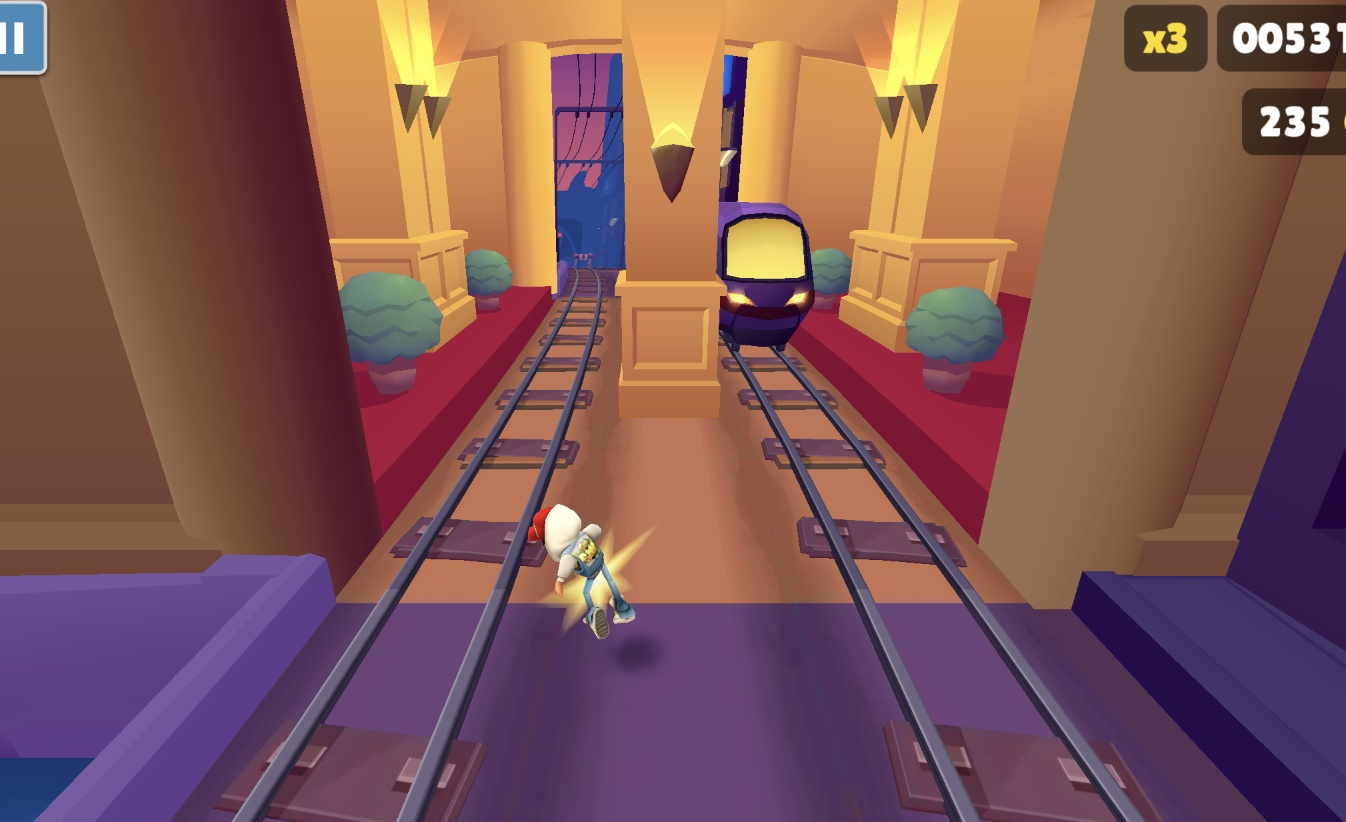ground_barrier: (566, 268, 588, 288)
pillar: (620, 0, 722, 416)
train: (720, 202, 816, 354)
